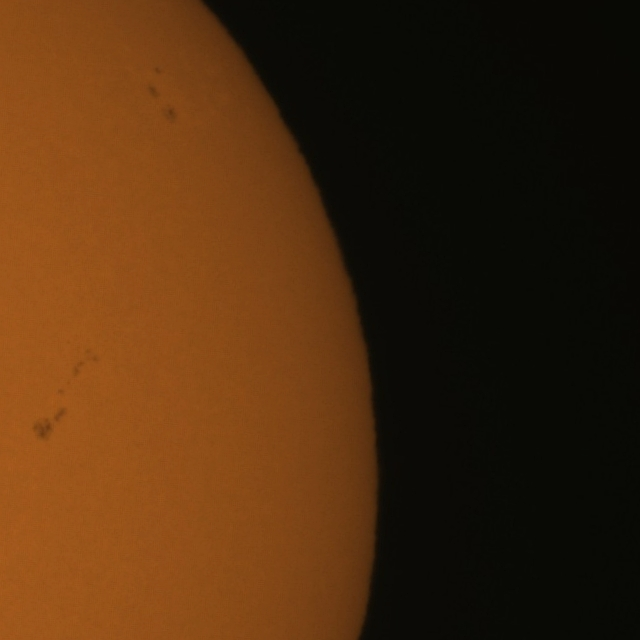sunspot: (31, 406, 66, 442), (70, 347, 99, 377), (163, 104, 178, 127), (146, 83, 161, 101), (153, 66, 163, 76)
